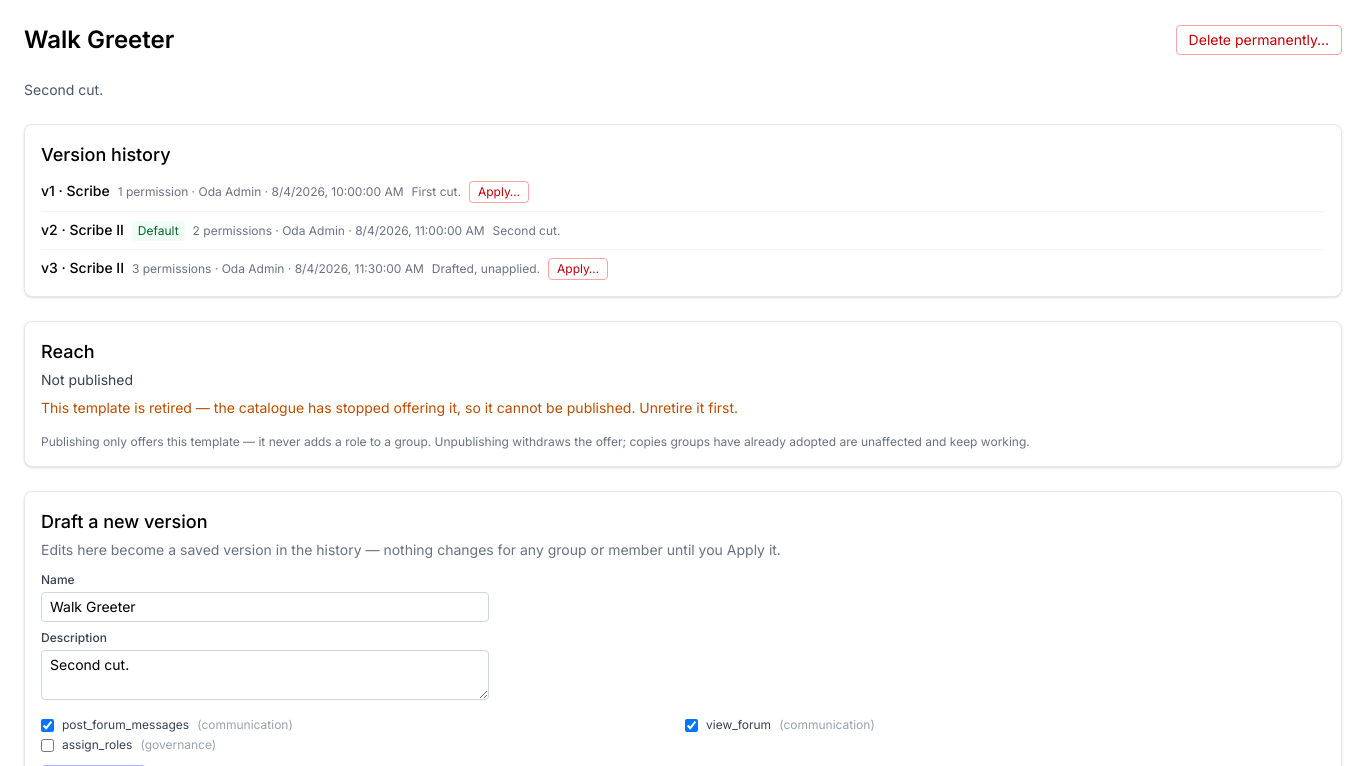
AdminRoleTemplateDetail — disposal (FEAT-H045 STORY-2) › the ceremony states permanence, that nobody ever saw it, and names the target
This screenshot has width=1366, height=766.
Expected: the heading "Walk Greeter" is shown, [24,24,174,56]
Click the button with test id "delete-template-button" at x=1259, y=40, box [1176,25,1342,55]
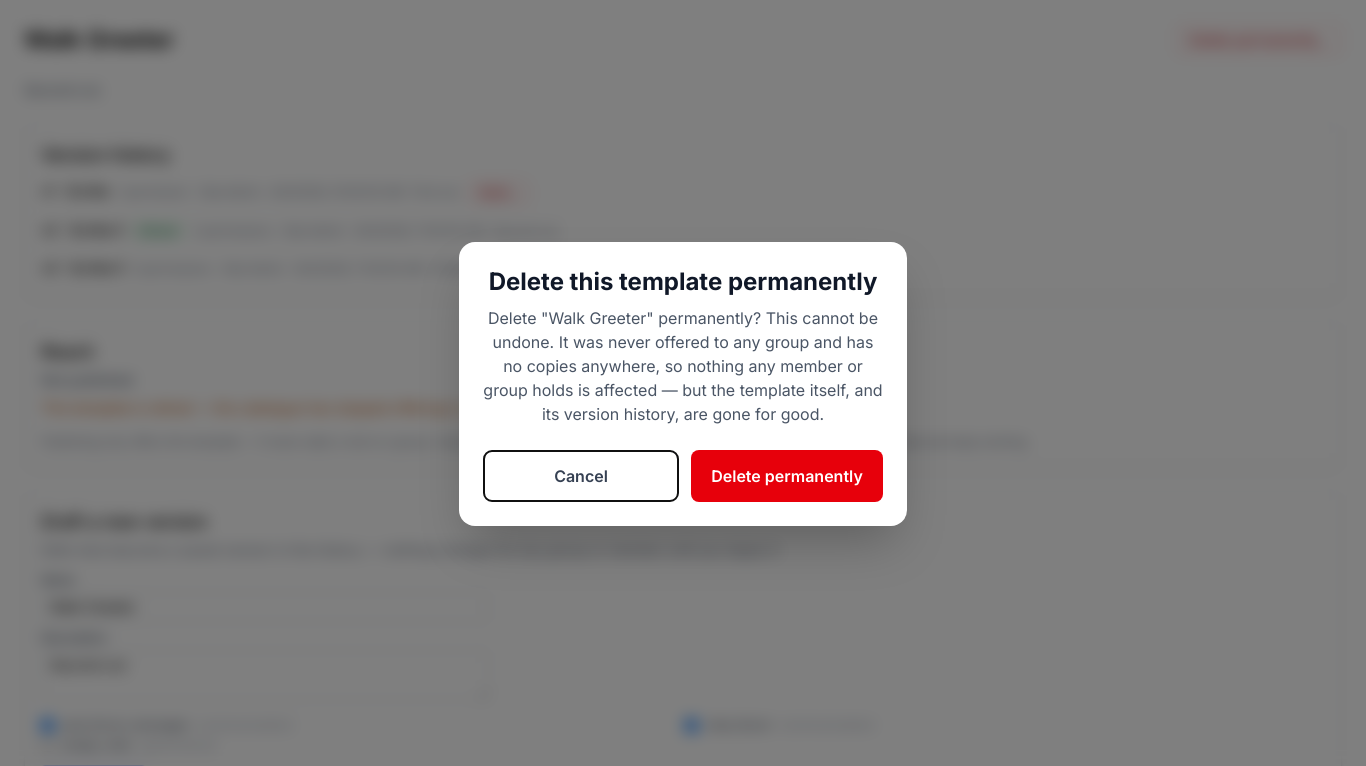
Now the dialog with test id "confirm-modal" shows "permanent", box [489,267,877,296]
Now the dialog with test id "confirm-modal" shows "cannot be undone", box [483,308,883,424]
Now the dialog with test id "confirm-modal" shows "never offered to any group", box [483,308,883,424]
